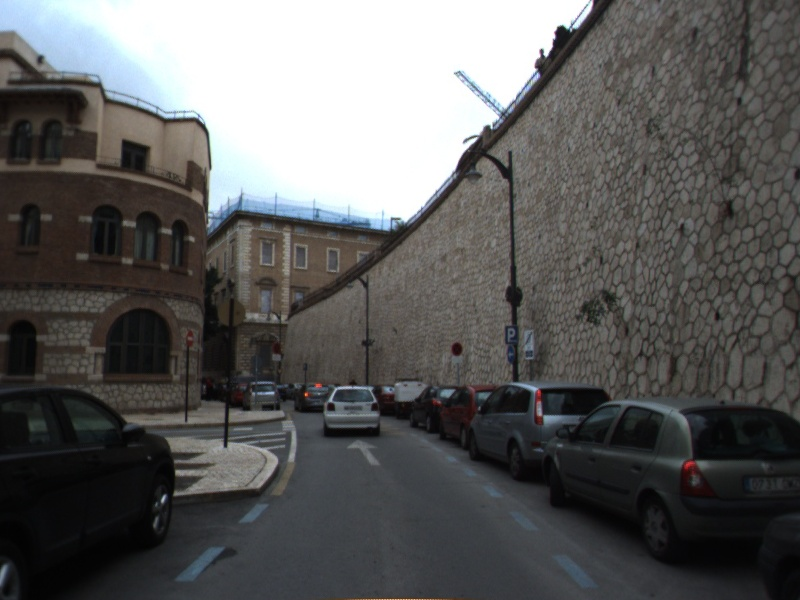STRAIGHT: (345, 437, 384, 467)
